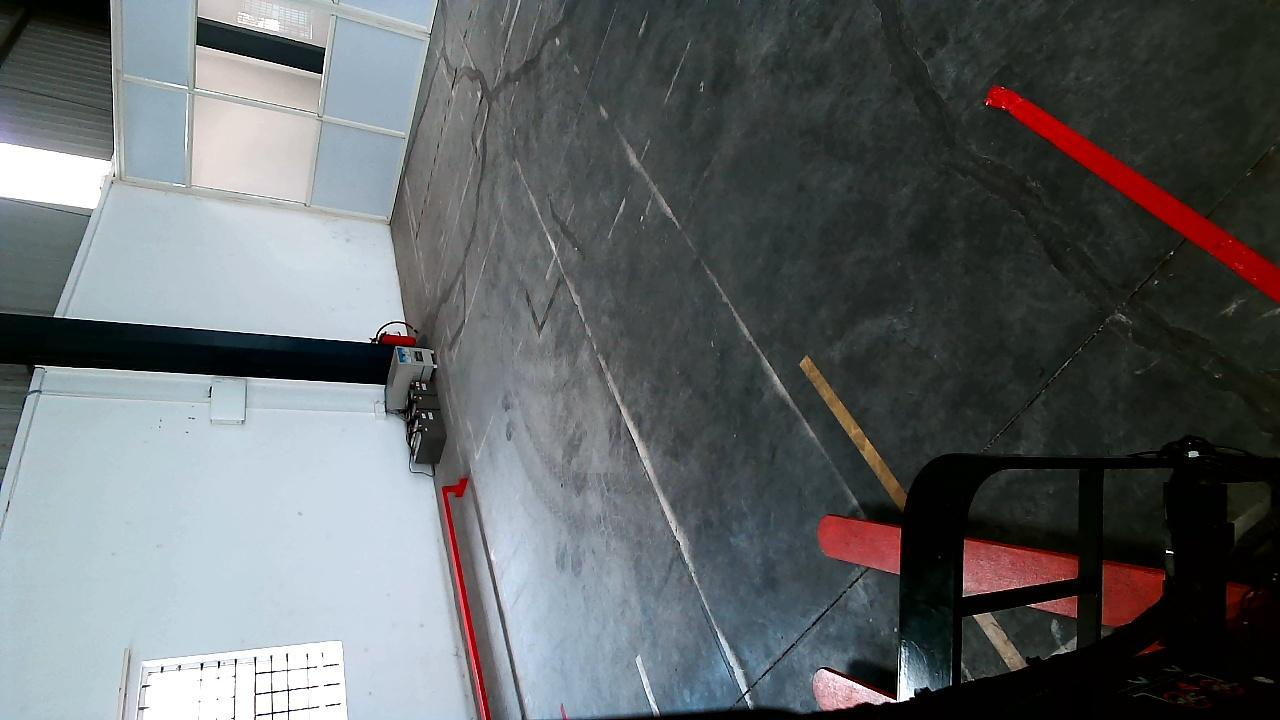red_line: (986, 81, 1279, 299), (801, 355, 907, 512)
